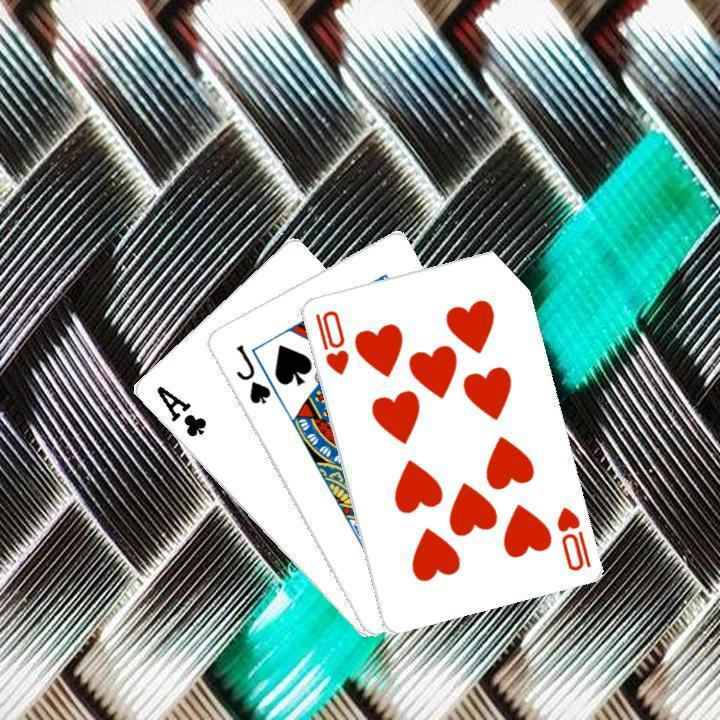10: (551, 502, 593, 573), (310, 305, 351, 377)
A: (151, 381, 208, 439)
J: (231, 340, 273, 406)
